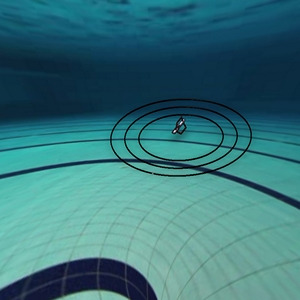circle: (98, 94, 261, 186)
submarine: (166, 114, 191, 140)
